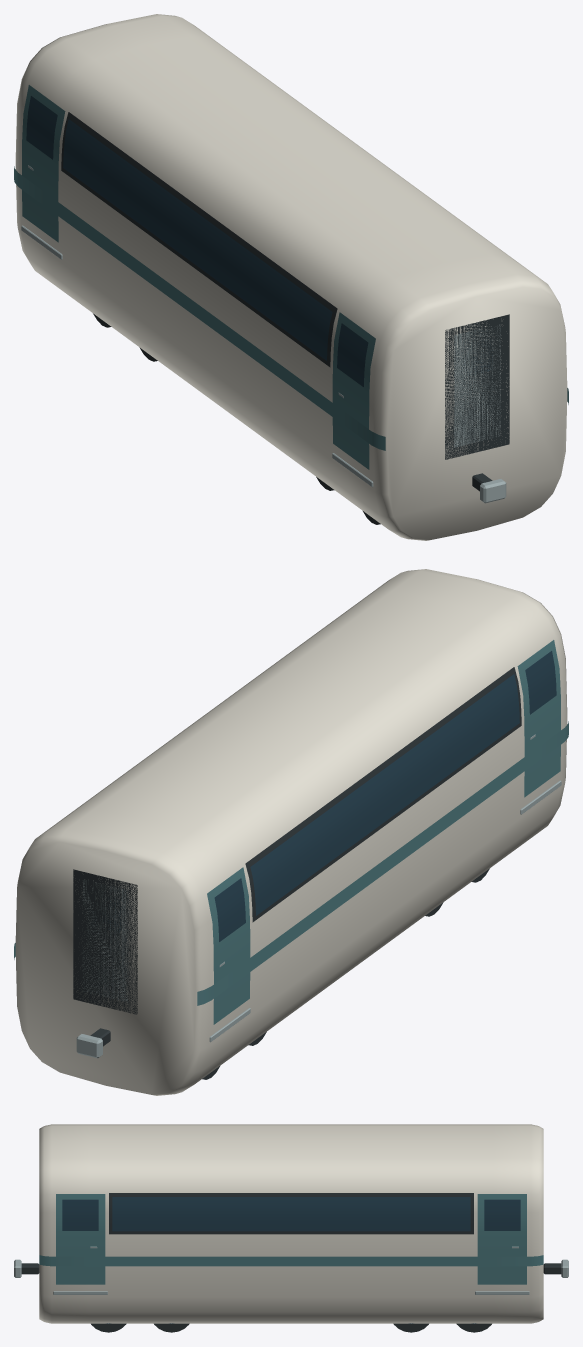
Rendered from train-passenger-01-v3.glb.
3 views of the same model, one above another, from view 1: azimuth 30°, elevation 25°; view 2: azimuth 150°, elevation 25°; view 3: azimuth 270°, elevation 25° (orthographic). The views are drawn at different scales.
Visible parts, largest first — view 1: RoundedSkirtedCoachShell, ContinuousRibbonGlass, EndGangway, ContinuousTealBand, ContinuousWindowSeal, GangwayDoor, PassengerDoor, PassengerDoor.001, DoorGlass.001, DoorGlass; view 2: RoundedSkirtedCoachShell, ContinuousRibbonGlass, EndGangway.001, ContinuousTealBand, ContinuousWindowSeal, PassengerDoor.001, PassengerDoor, GangwayDoor.001, DoorGlass, DoorGlass.001; view 3: RoundedSkirtedCoachShell, ContinuousRibbonGlass.001, ContinuousTealBand.001, ContinuousWindowSeal.001, PassengerDoor.002, PassengerDoor.003, DoorGlass.002, DoorGlass.003.
Boxes of the visible parts, left/top/right/bottom form: RoundedSkirtedCoachShell: left=15, top=14, right=567, bottom=540; ContinuousRibbonGlass: left=63, top=119, right=332, bottom=360; EndGangway: left=445, top=314, right=509, bottom=459; ContinuousTealBand: left=14, top=166, right=385, bottom=450; ContinuousWindowSeal: left=61, top=112, right=337, bottom=367; GangwayDoor: left=454, top=324, right=500, bottom=447; PassengerDoor: left=332, top=312, right=375, bottom=469; PassengerDoor.001: left=22, top=85, right=65, bottom=242; DoorGlass.001: left=26, top=96, right=57, bottom=159; DoorGlass: left=337, top=323, right=368, bottom=386; RoundedSkirtedCoachShell: left=15, top=569, right=567, bottom=1095; ContinuousRibbonGlass: left=250, top=674, right=519, bottom=915; EndGangway.001: left=73, top=869, right=137, bottom=1014; ContinuousTealBand: left=197, top=721, right=568, bottom=1005; ContinuousWindowSeal: left=245, top=667, right=521, bottom=922; PassengerDoor.001: left=207, top=867, right=250, bottom=1024; PassengerDoor: left=517, top=640, right=560, bottom=797; GangwayDoor.001: left=82, top=880, right=128, bottom=1002; DoorGlass: left=525, top=651, right=556, bottom=714; DoorGlass.001: left=214, top=878, right=245, bottom=941; RoundedSkirtedCoachShell: left=39, top=1124, right=543, bottom=1323; ContinuousRibbonGlass.001: left=112, top=1197, right=470, bottom=1231; ContinuousTealBand.001: left=39, top=1255, right=543, bottom=1266; ContinuousWindowSeal.001: left=109, top=1193, right=473, bottom=1234; PassengerDoor.002: left=56, top=1194, right=105, bottom=1284; PassengerDoor.003: left=477, top=1194, right=526, bottom=1284; DoorGlass.002: left=62, top=1199, right=98, bottom=1230; DoorGlass.003: left=484, top=1199, right=520, bottom=1230.
Bounding box in the file's own units: 3 × 3.8 × 11.
